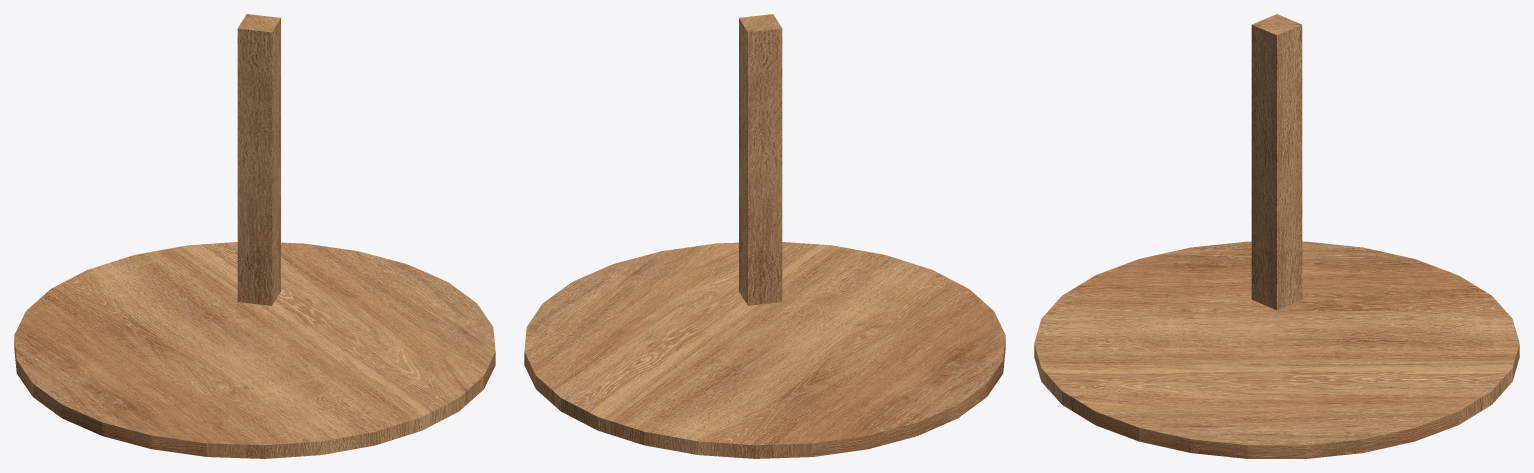
Rendered from 24066_deepcad-end2end.glb.
3 renders of one model, left to right at view 1: azimuth 30°, elevation 25°; view 2: azimuth 150°, elevation 25°; view 3: azimuth 270°, elevation 25°, orthographic.
Parts seen in each view (by area): view 1: test_cmd_24066_pred; view 2: test_cmd_24066_pred; view 3: test_cmd_24066_pred.
Part boxes in pixels (x1=…): test_cmd_24066_pred: x1=14, y1=14, x2=495, y2=458; test_cmd_24066_pred: x1=524, y1=14, x2=1005, y2=458; test_cmd_24066_pred: x1=1034, y1=14, x2=1519, y2=458.
Size of the model in its own units: 0.9927 by 0.7604 by 1.
Materials: 1 (1 with a texture image).
